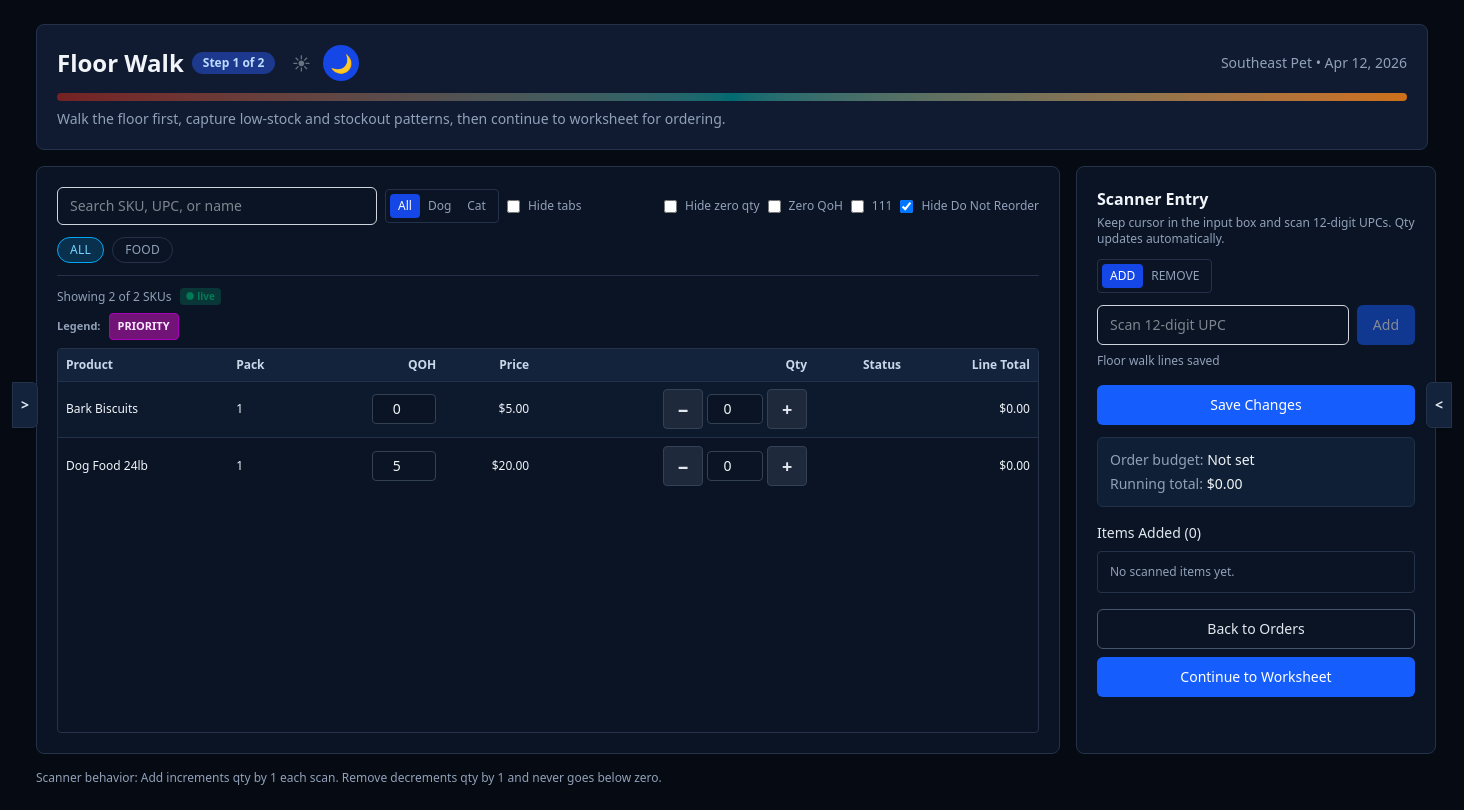
Test: Floor Walk Search & Qty Controls › filters items by search text
Expected: the text "Bark Biscuits" is shown, [58,381,228,437]
Type "bark" into the field with placeholder "Search SKU, UPC, or name" at (217, 206), box [57,187,377,225]
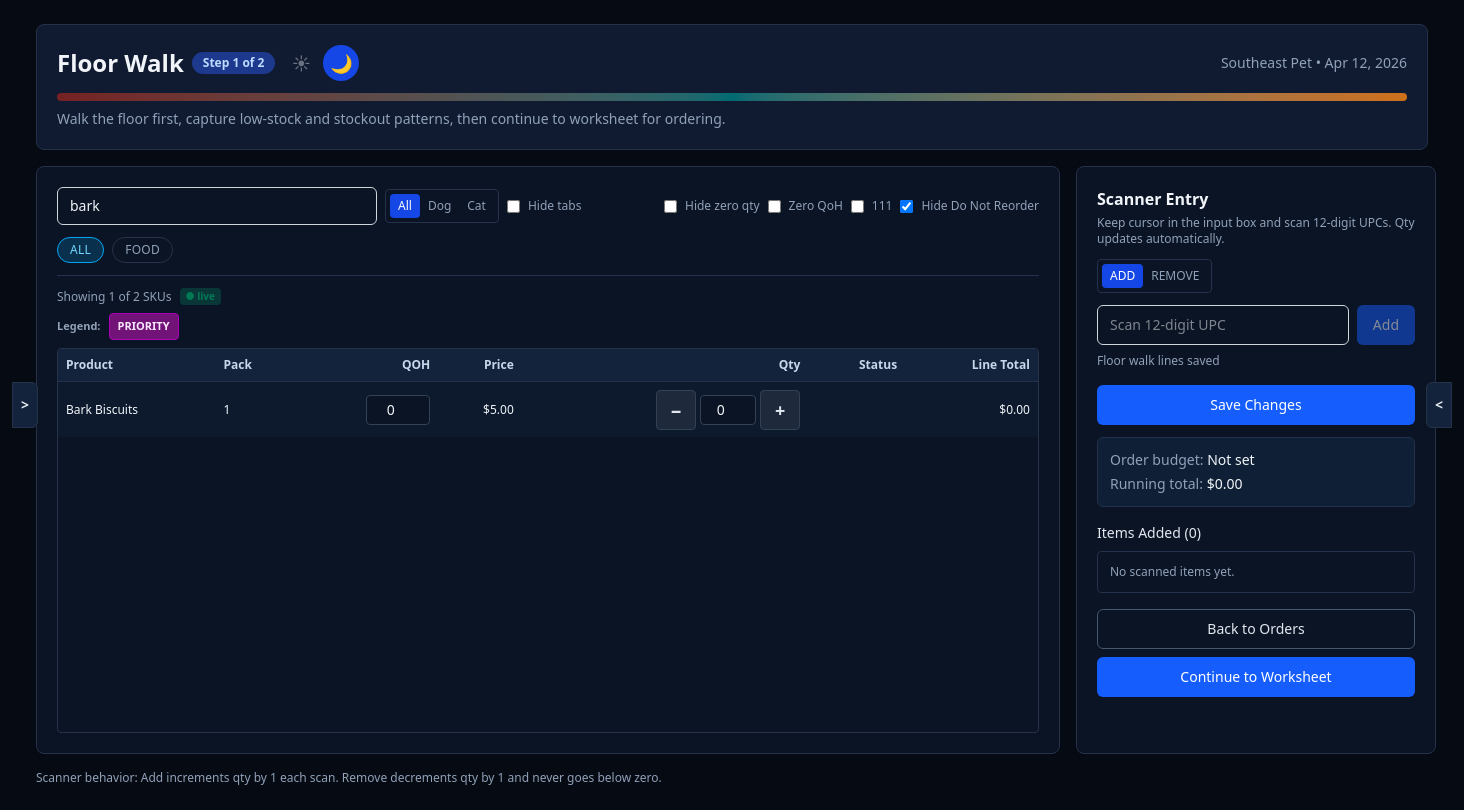
Expected: the text "Bark Biscuits" is shown, [58,381,216,437]
Now the text "Dog Food 24lb" is gone
